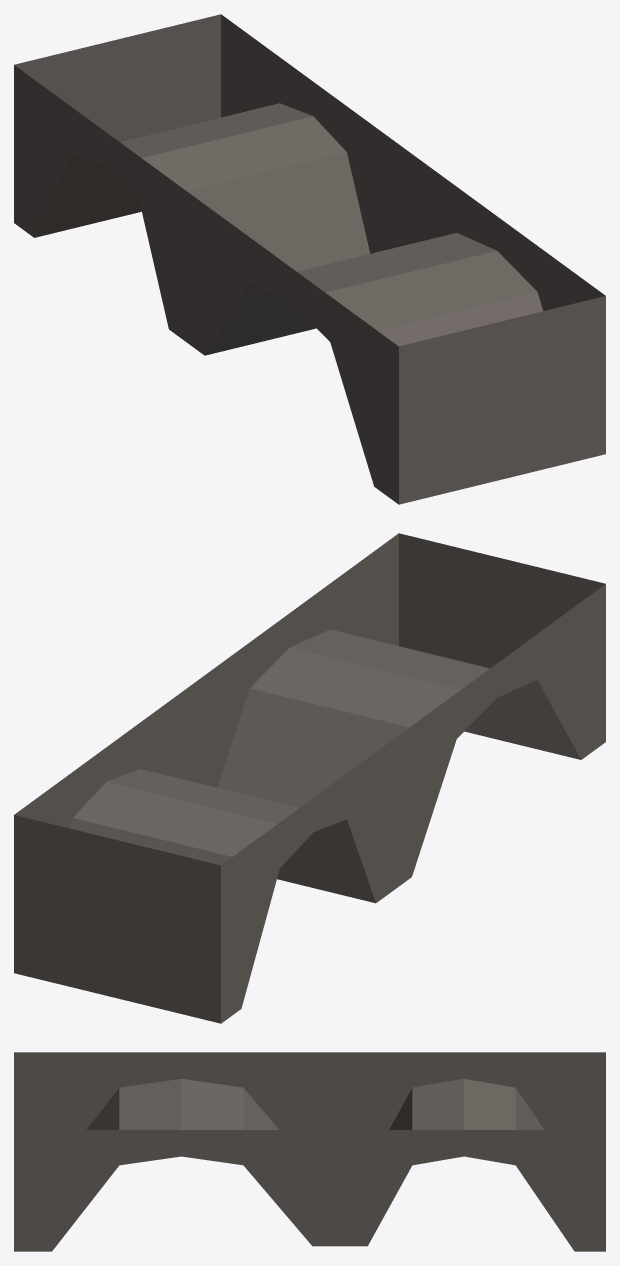
File: Bridge_part_decoration 1.fbx
3 renders of one model, top to bottom at view 1: azimuth 30°, elevation 25°; view 2: azimuth 150°, elevation 25°; view 3: azimuth 270°, elevation 25°, orthographic. The views are drawn at different scales.
Visible parts, largest first — view 1: Bridge_part_decoration; view 2: Bridge_part_decoration; view 3: Bridge_part_decoration.
Boxes of the visible parts, bbox=[...] form: Bridge_part_decoration: bbox=[14, 14, 605, 504]; Bridge_part_decoration: bbox=[14, 533, 605, 1023]; Bridge_part_decoration: bbox=[14, 1052, 605, 1251].
Size of the model in its own units: 1023 by 747 by 3292.
